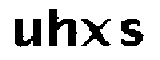h: (45, 6, 79, 51)
s: (117, 17, 147, 50)
u: (9, 17, 42, 51)
x: (79, 15, 113, 49)
